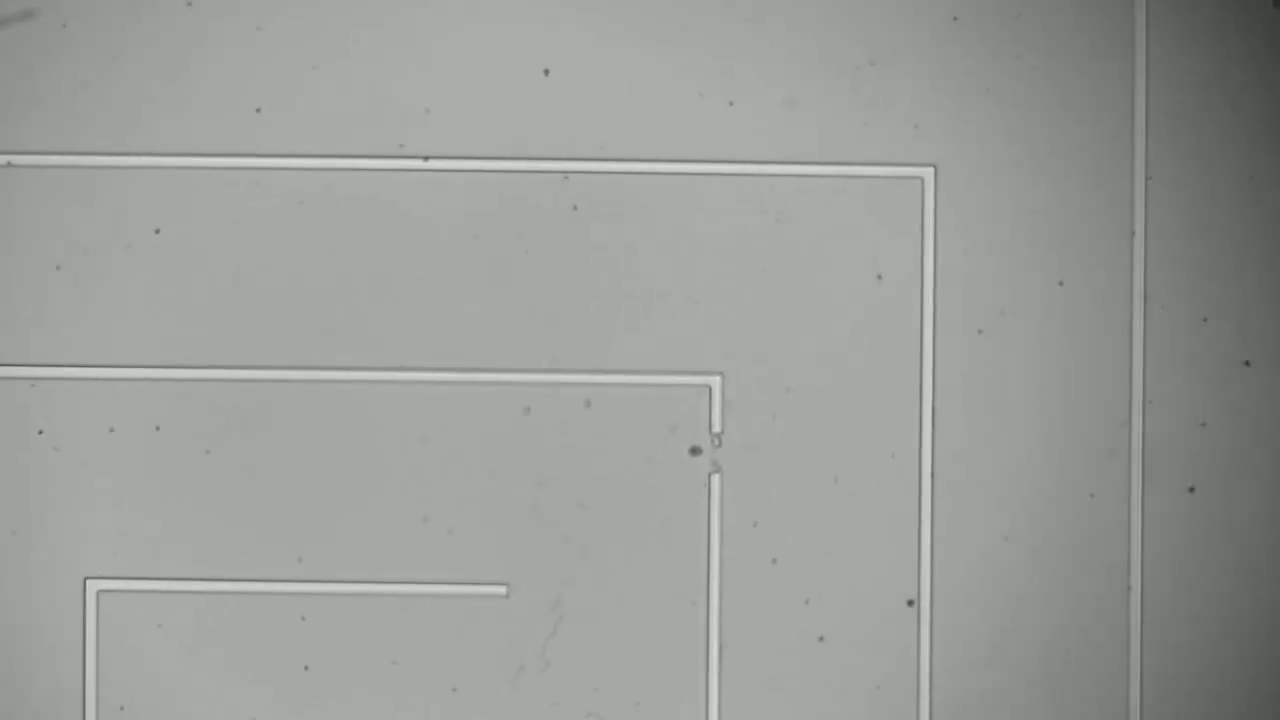open: (695, 410, 740, 494)
